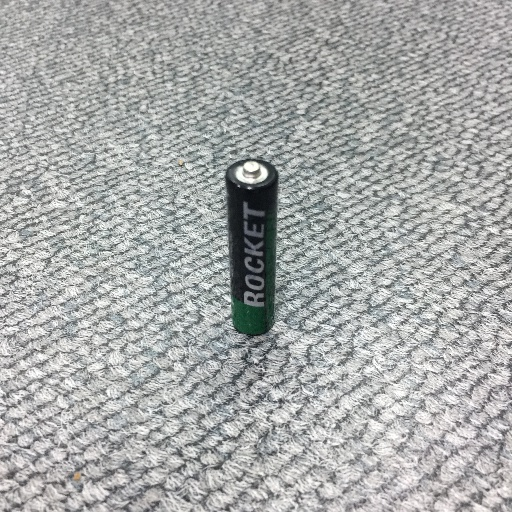Battery_0: (221, 153, 285, 340)
